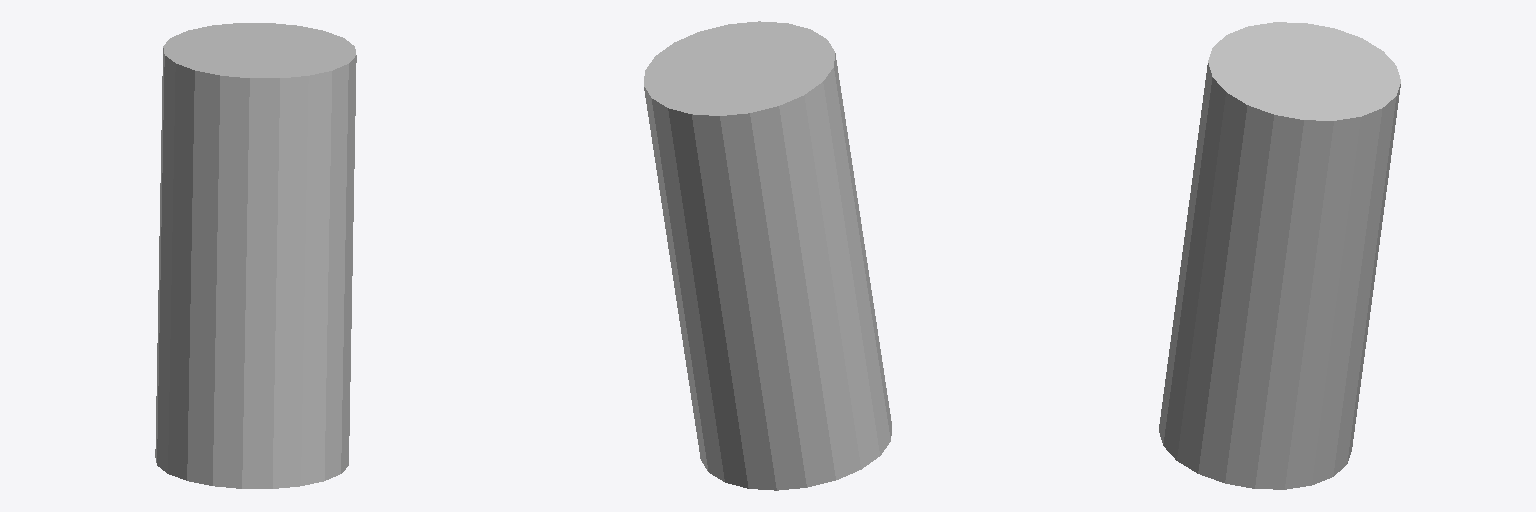
File: 4midph_skin.obj
The picture shows the model from 3 angles: view 1: azimuth 30°, elevation 25°; view 2: azimuth 150°, elevation 25°; view 3: azimuth 270°, elevation 25°; orthographic projection.
Bounding box in the file's own units: 0.0125 × 0.0245 × 0.0131.